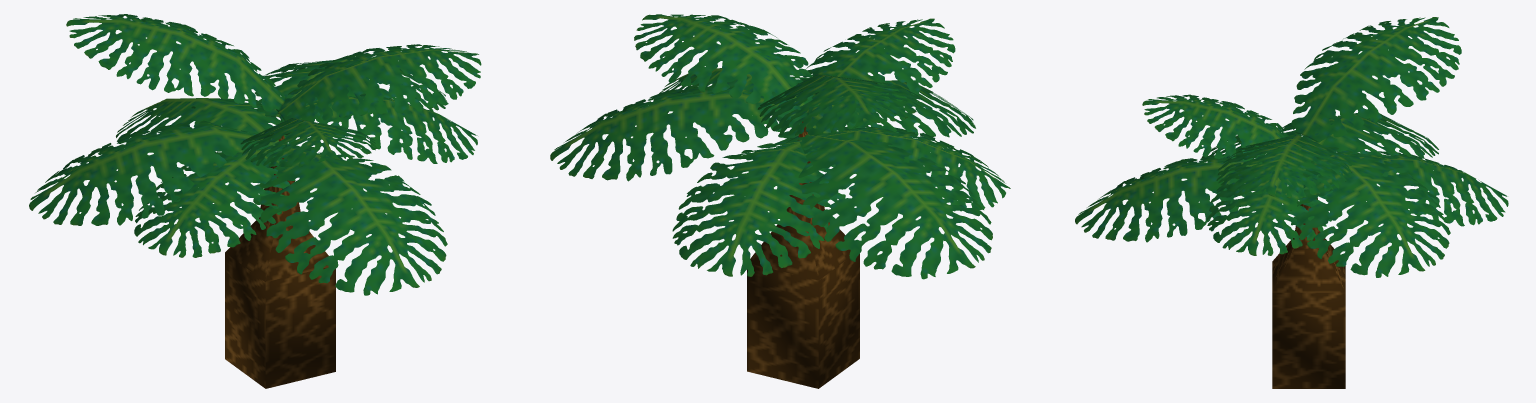
Rendered from jungle_undergrowth_1_2.dae.
3 renders of one model, left to right at view 1: azimuth 30°, elevation 25°; view 2: azimuth 150°, elevation 25°; view 3: azimuth 270°, elevation 25°, orthographic. The views are drawn at different scales.
Visible parts, largest first — view 1: Cube; view 2: Cube; view 3: Cube.
Part boxes in pixels (bbox=[...]): Cube: bbox=[29, 14, 481, 388]; Cube: bbox=[550, 14, 1010, 388]; Cube: bbox=[1075, 17, 1508, 388].
Size of the model in its own units: 0.4077 by 0.4 by 0.2883.
Materials: 1 (1 with a texture image).
